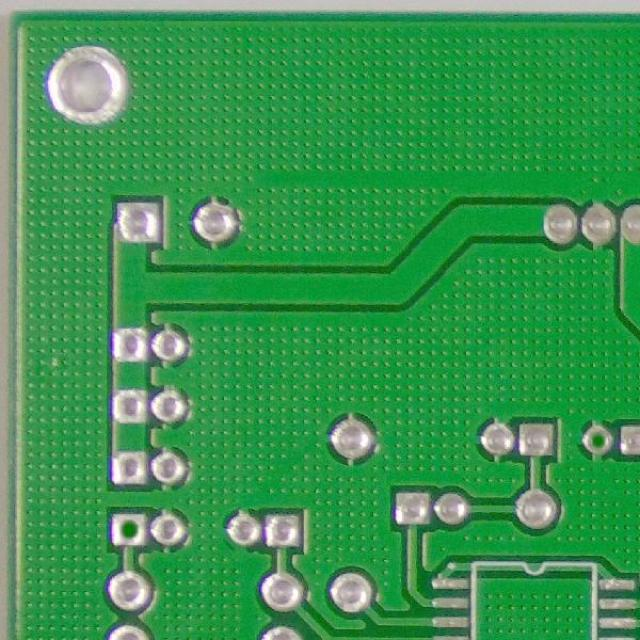Missing_Hole: (109, 508, 149, 550), (580, 422, 616, 457)
